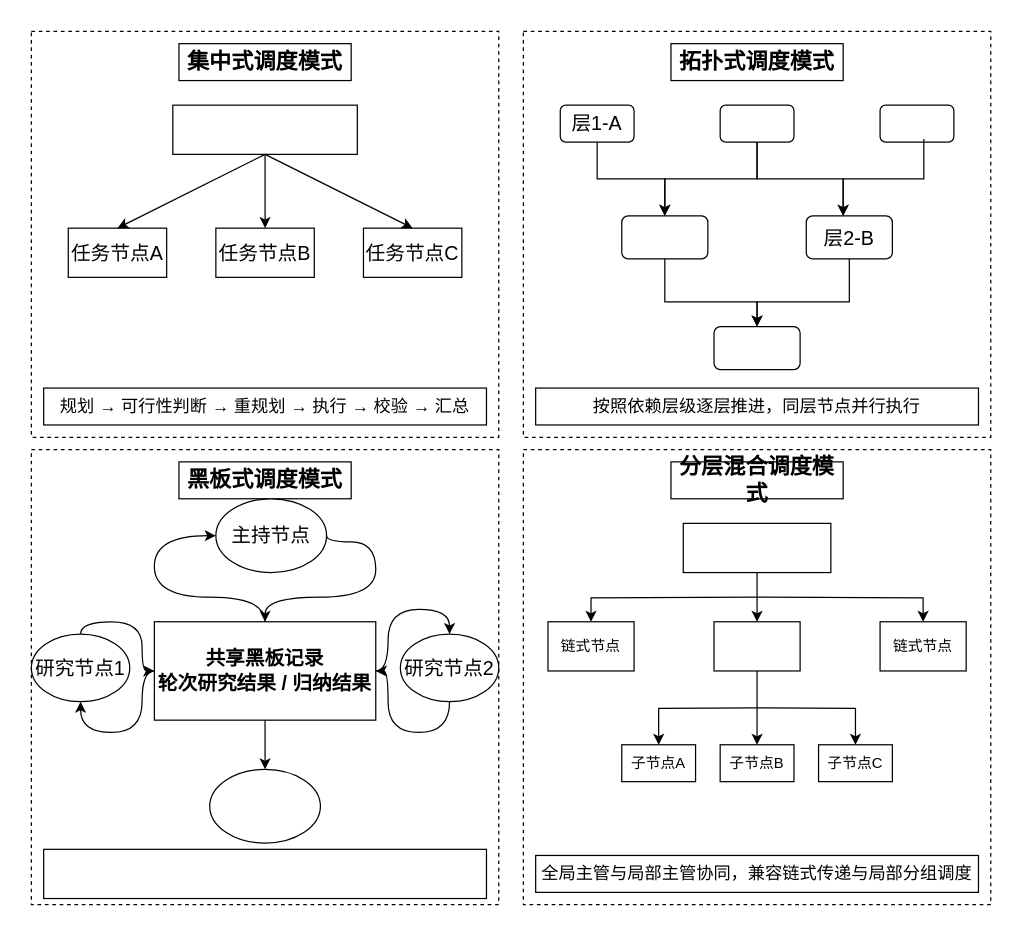
Some shapes in this 1012 by 926 pixel diagram are drawn without their labels. The centre of each missing label's shape, as x and y in pixels:
"主持节点依据黑板记录分派任务 报告节点基于累积结果形成输出" goes at point 264,873.
"全局主管节点" goes at point 756,547.
"局部主管" goes at point 756,646.
"层1-B" goes at point 756,123.
"层1-C" goes at point 916,123.
"层2-A" goes at point 664,237.
"层3" goes at point 756,347.
"报告节点" goes at point 264,805.
"虚拟主管执行单元" goes at point 264,129.
